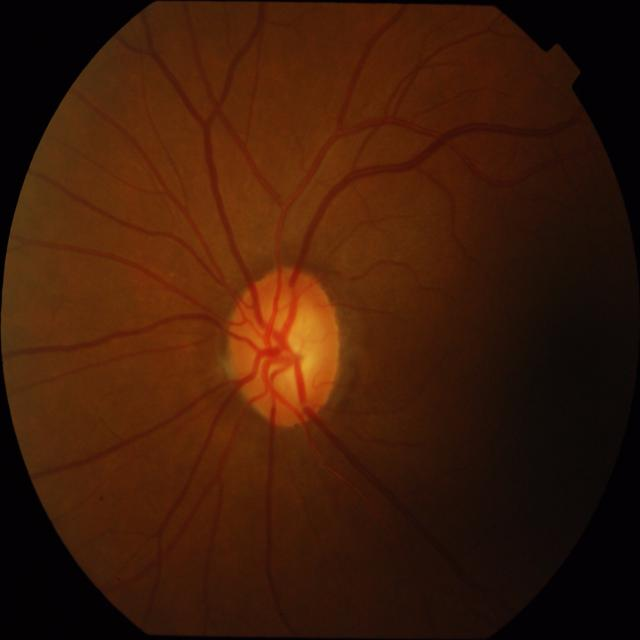OC: (237, 277, 332, 413)
OD: (226, 267, 341, 427)
